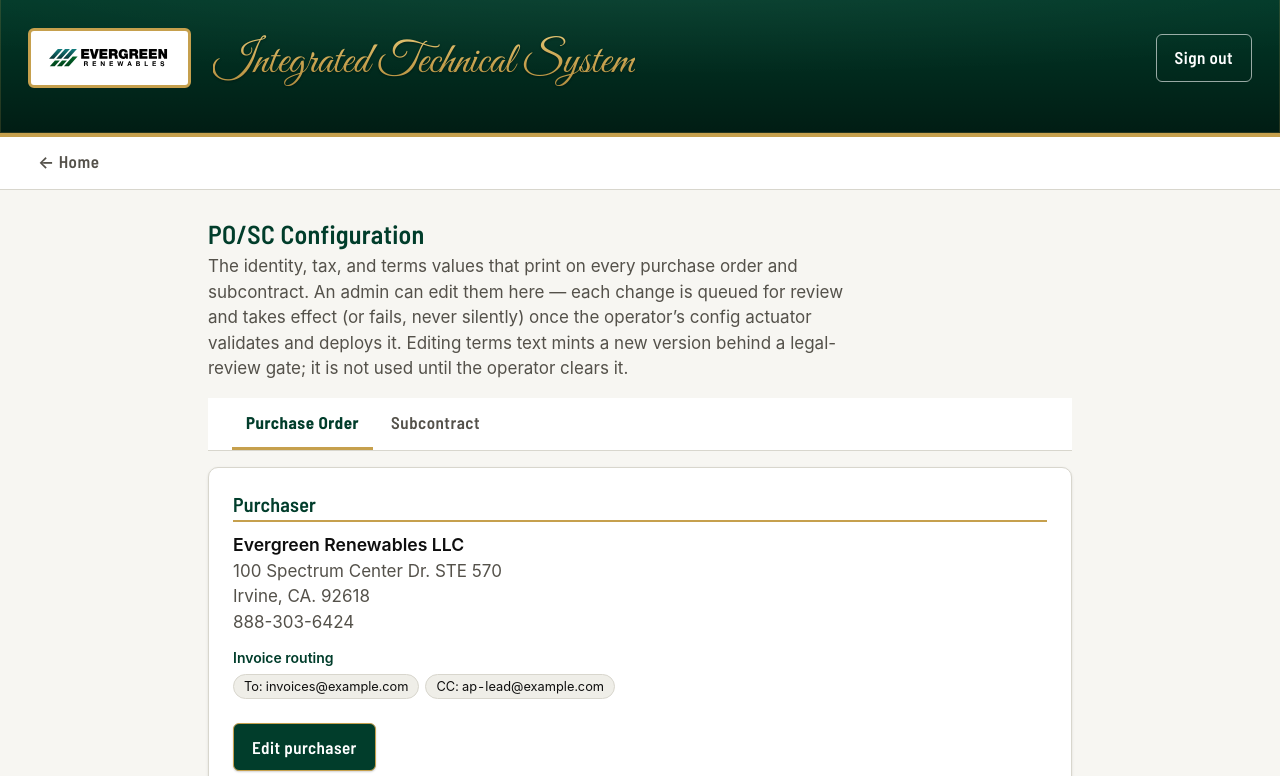
Test: PoConfigPage — editors (send-free enqueue) › purchaser edit POSTs an op:edit request with the full purchaser payload
Expected: the text "Evergreen Renewables LLC" is shown, [233, 534, 464, 555]
Click the button "Edit purchaser". click: (304, 747)
box: [233, 723, 376, 771]
(page scrolled)
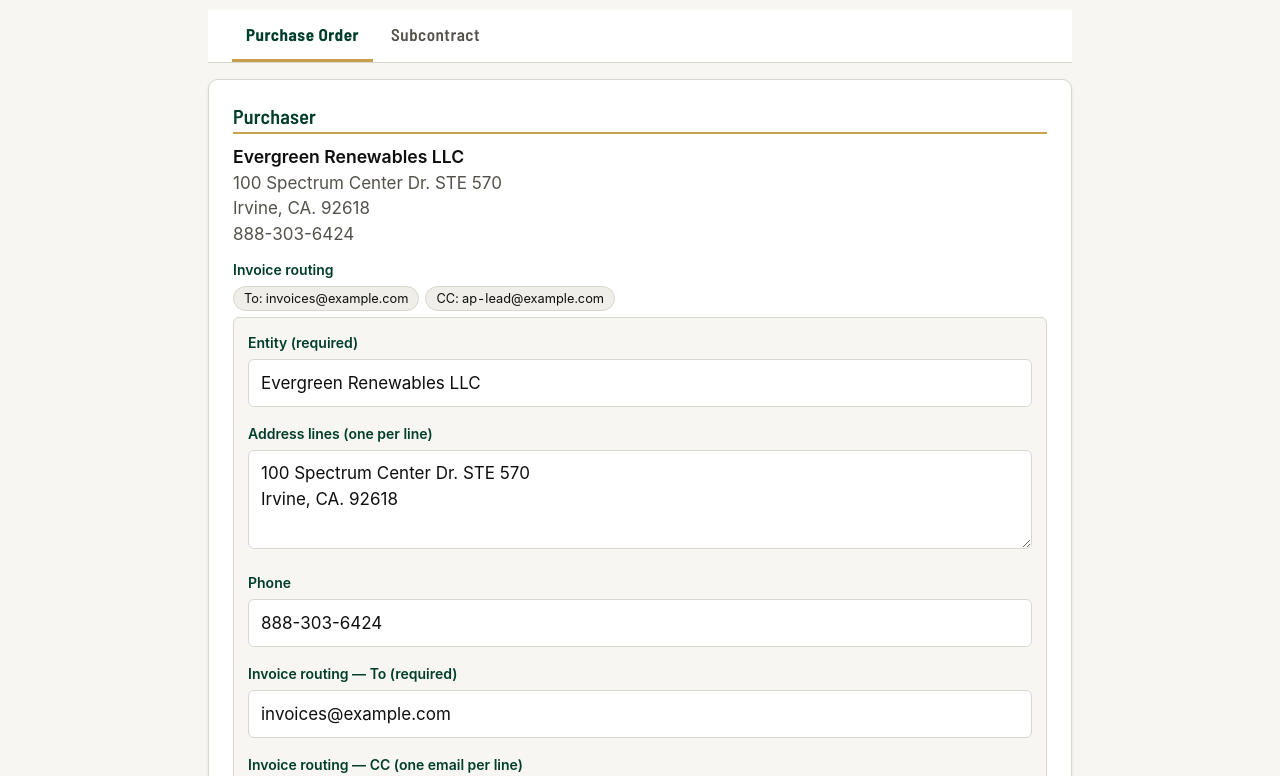
Replace the text in the field with class "field__input" showing "Entity (required)" with "Evergreen Renewables Holdings LLC". click: (640, 383)
box: [248, 359, 1032, 407]
(page scrolled)
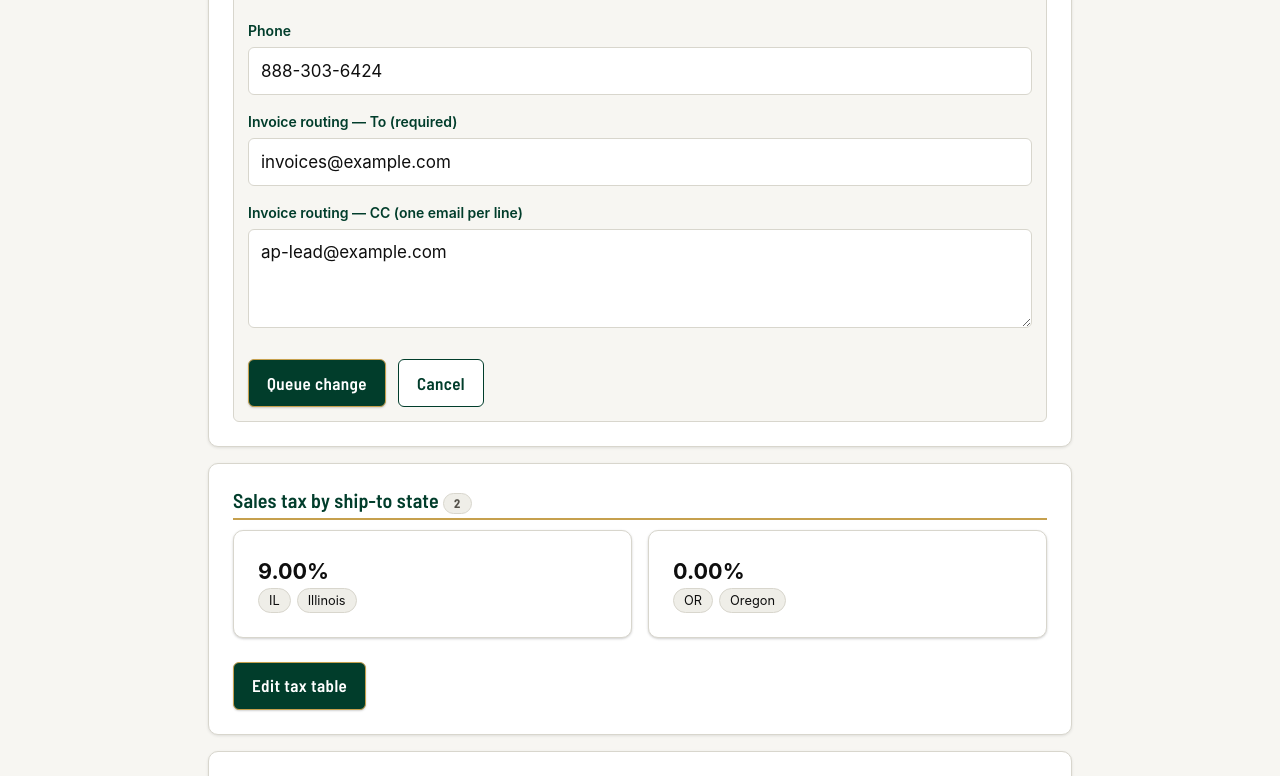
Click the button "Queue change". click: (317, 383)
box: [248, 359, 386, 407]
(page scrolled)
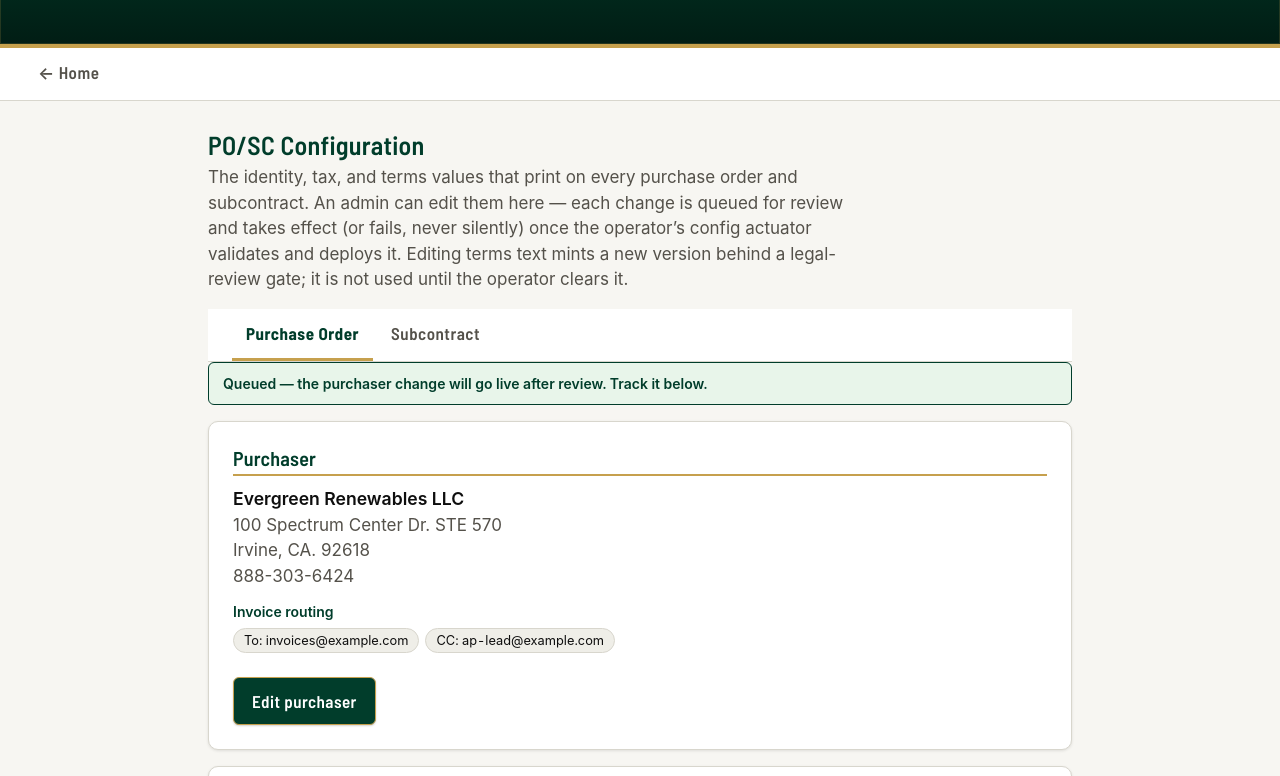
Expected: the text "Queued — the purchaser change" is shown, [223, 375, 708, 392]
